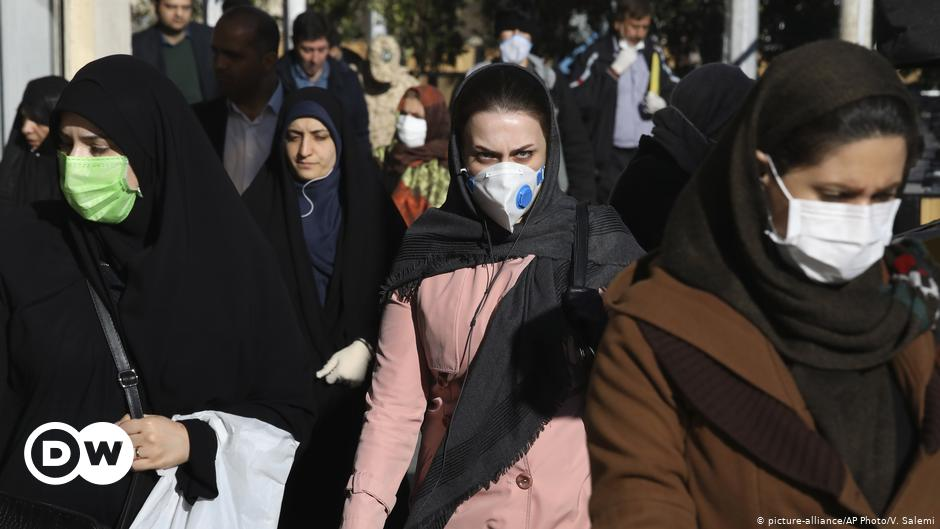with_mask: (792, 132, 883, 273), (60, 108, 139, 225), (467, 117, 540, 221), (396, 96, 428, 144)
without_mask: (210, 20, 262, 101), (291, 119, 328, 175), (18, 100, 47, 148), (625, 7, 651, 53), (164, 1, 188, 35), (305, 41, 322, 71)
